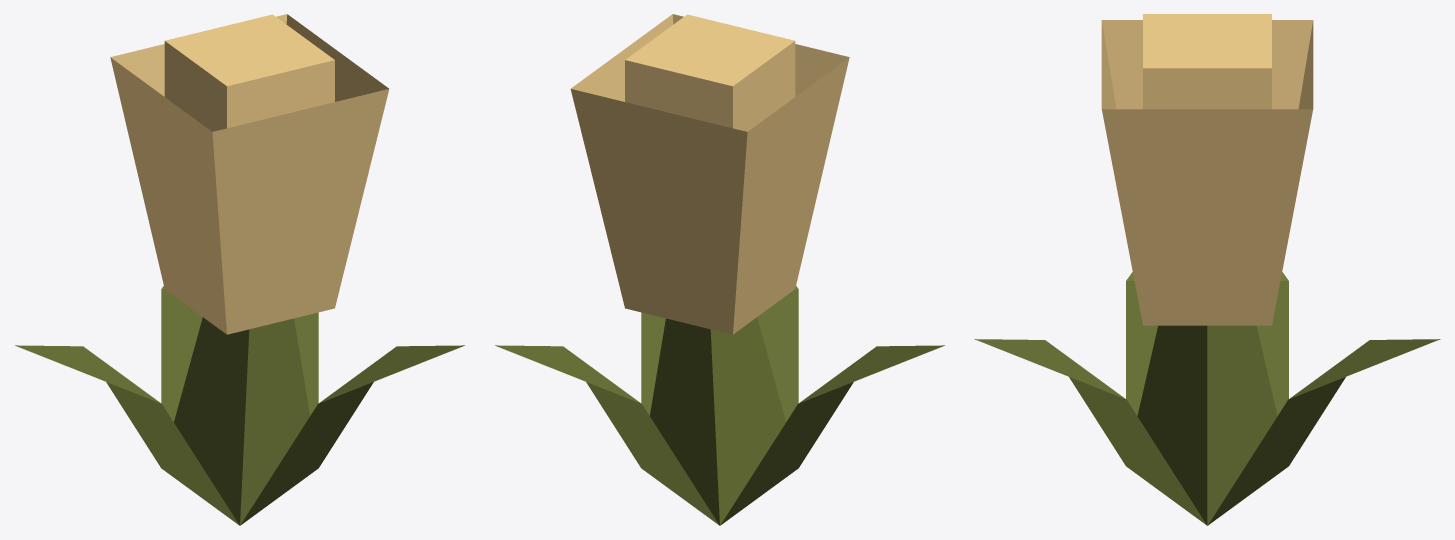
File: fleur-jaune.glb
3 renders of one model, left to right at view 1: azimuth 30°, elevation 25°; view 2: azimuth 150°, elevation 25°; view 3: azimuth 270°, elevation 25°, orthographic. The views are drawn at different scales.
Parts seen in each view (by area): view 1: flower_yellowA; view 2: flower_yellowA; view 3: flower_yellowA.
Part boxes in pixels (bbox=[...]): flower_yellowA: bbox=[15, 14, 464, 525]; flower_yellowA: bbox=[495, 14, 944, 525]; flower_yellowA: bbox=[974, 14, 1440, 525].
Bounding box in the file's own units: 0.4133 × 0.5 × 0.4703.
